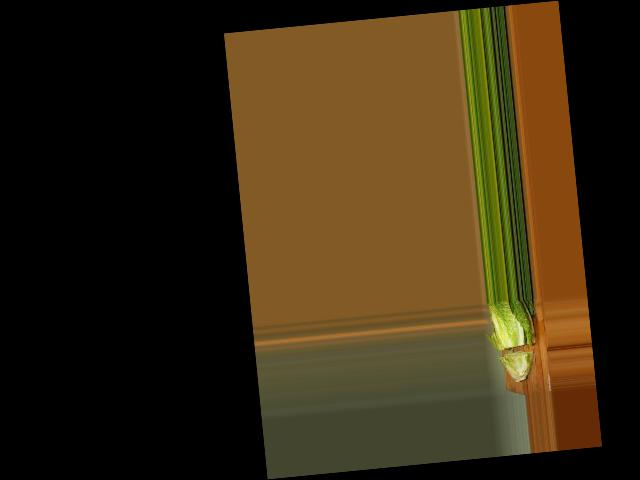lettuce: (485, 299, 544, 383)
